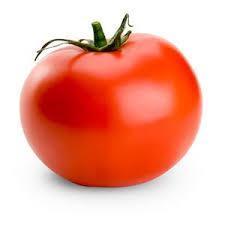tomato: (17, 34, 204, 188)
